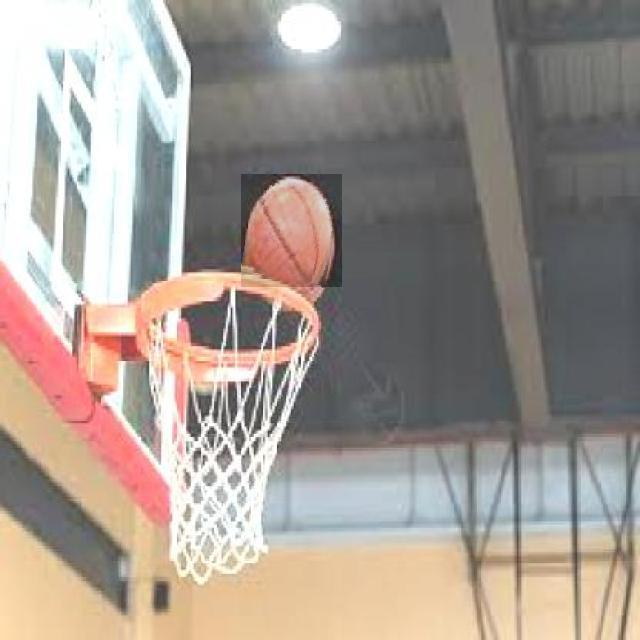Ball: (242, 175, 342, 286)
